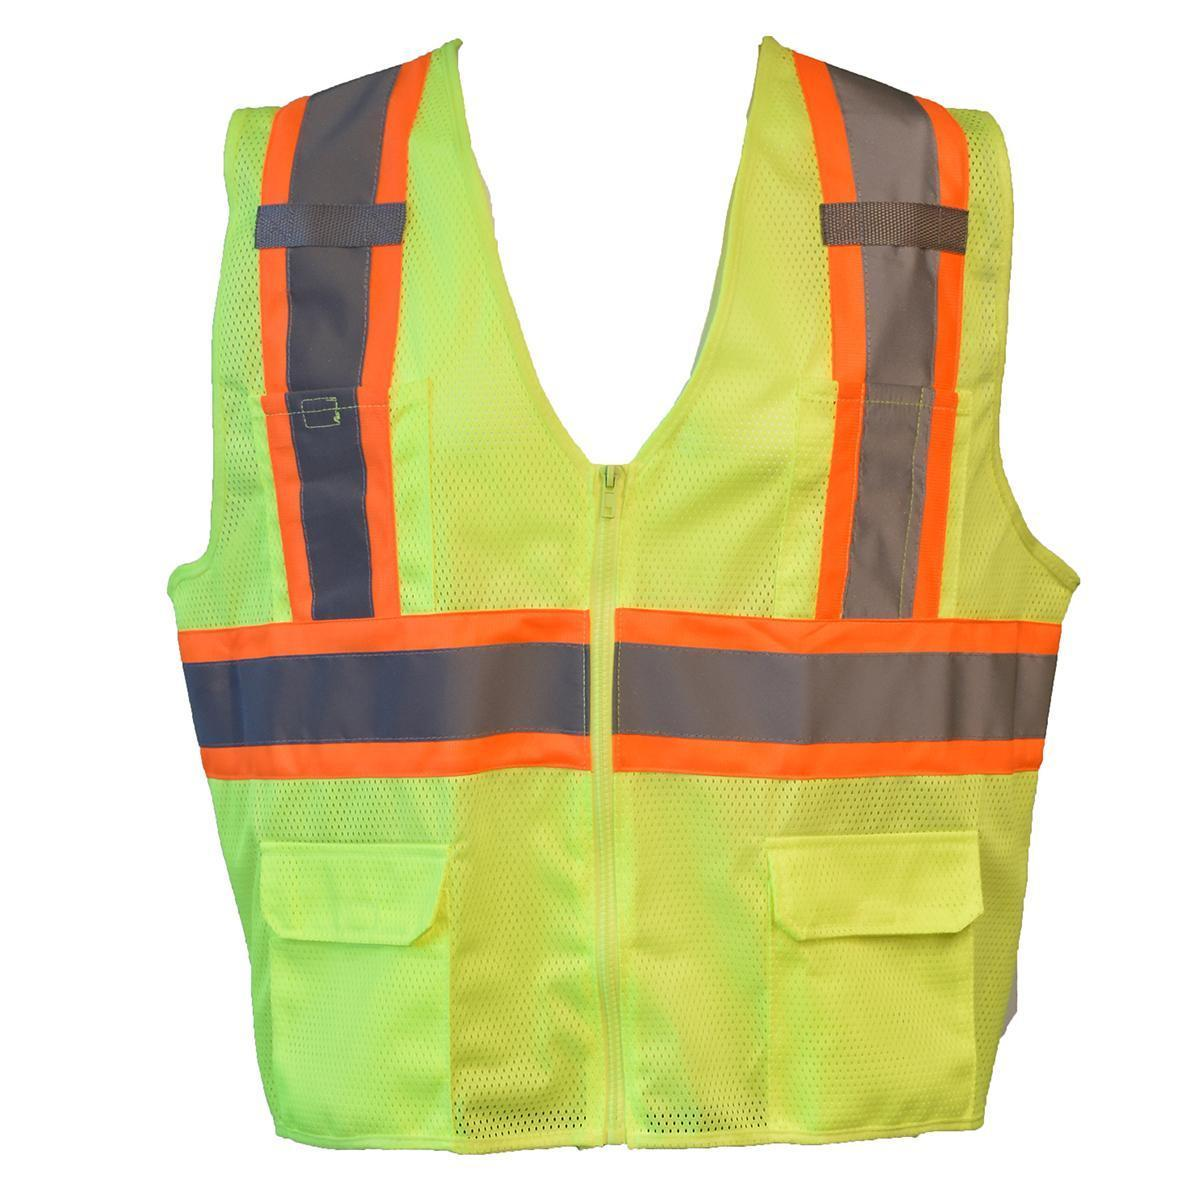vest: (173, 42, 1077, 1160)
